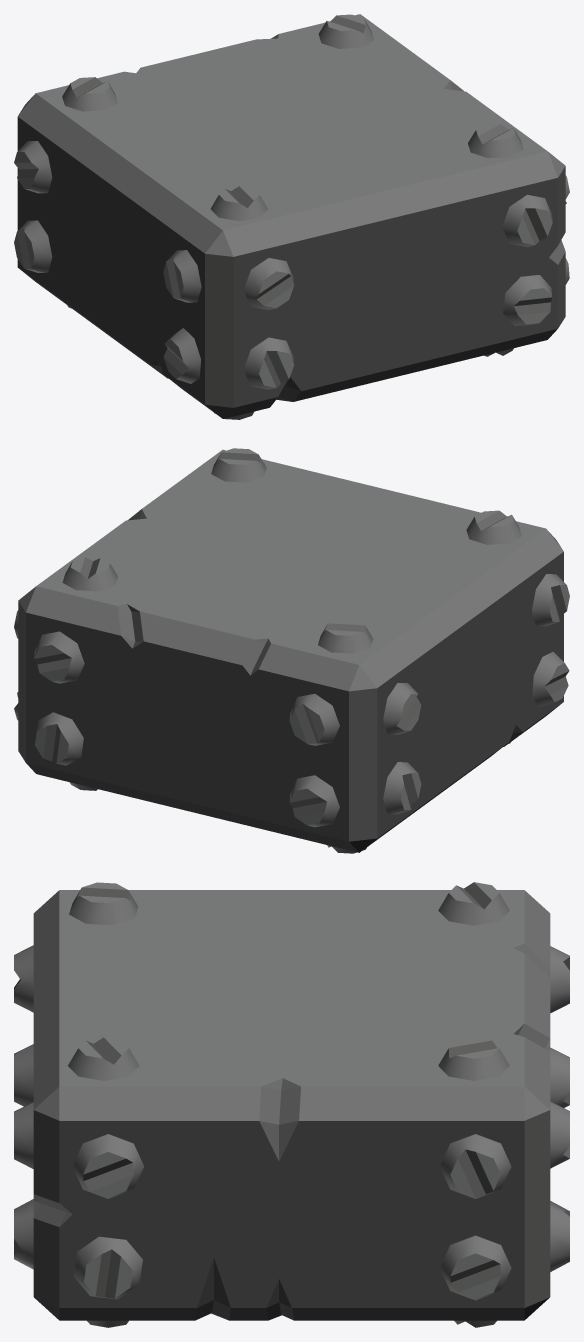
File: m_kub_metalOld_cubeSmall.FBX
The picture shows the model from 3 angles, top to bottom: view 1: azimuth 30°, elevation 25°; view 2: azimuth 150°, elevation 25°; view 3: azimuth 270°, elevation 25°; orthographic projection. The views are drawn at different scales.
Visible parts, largest first — view 1: m_kub_metalOld_cubeSmall; view 2: m_kub_metalOld_cubeSmall; view 3: m_kub_metalOld_cubeSmall.
Boxes of the visible parts, x1=… form: m_kub_metalOld_cubeSmall: x1=14, y1=14, x2=569, y2=419; m_kub_metalOld_cubeSmall: x1=14, y1=448, x2=569, y2=853; m_kub_metalOld_cubeSmall: x1=14, y1=882, x2=569, y2=1327.
Bounding box in the file's own units: 2.15 × 1.15 × 2.15.
